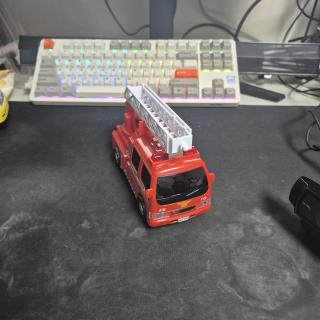Fire_truck: (112, 84, 215, 227)
